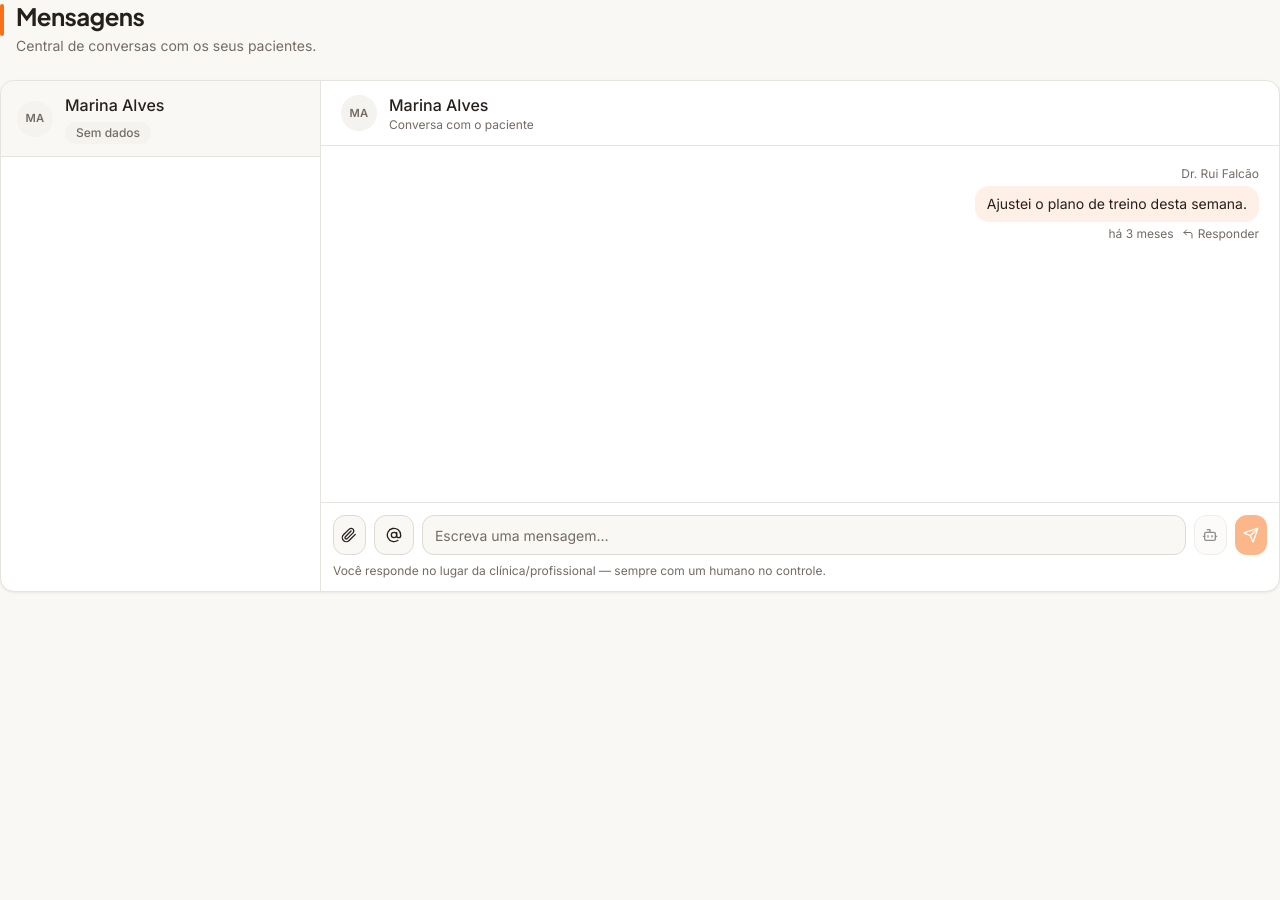
Test: MessagesPage — cada lista responde pelo seu próprio estado › falha no roster vira erro VISÍVEL dentro do seletor, com nova tentativa
Click the button named "Marcar um profissional".
click(394, 535)  # box [374,515,414,555]
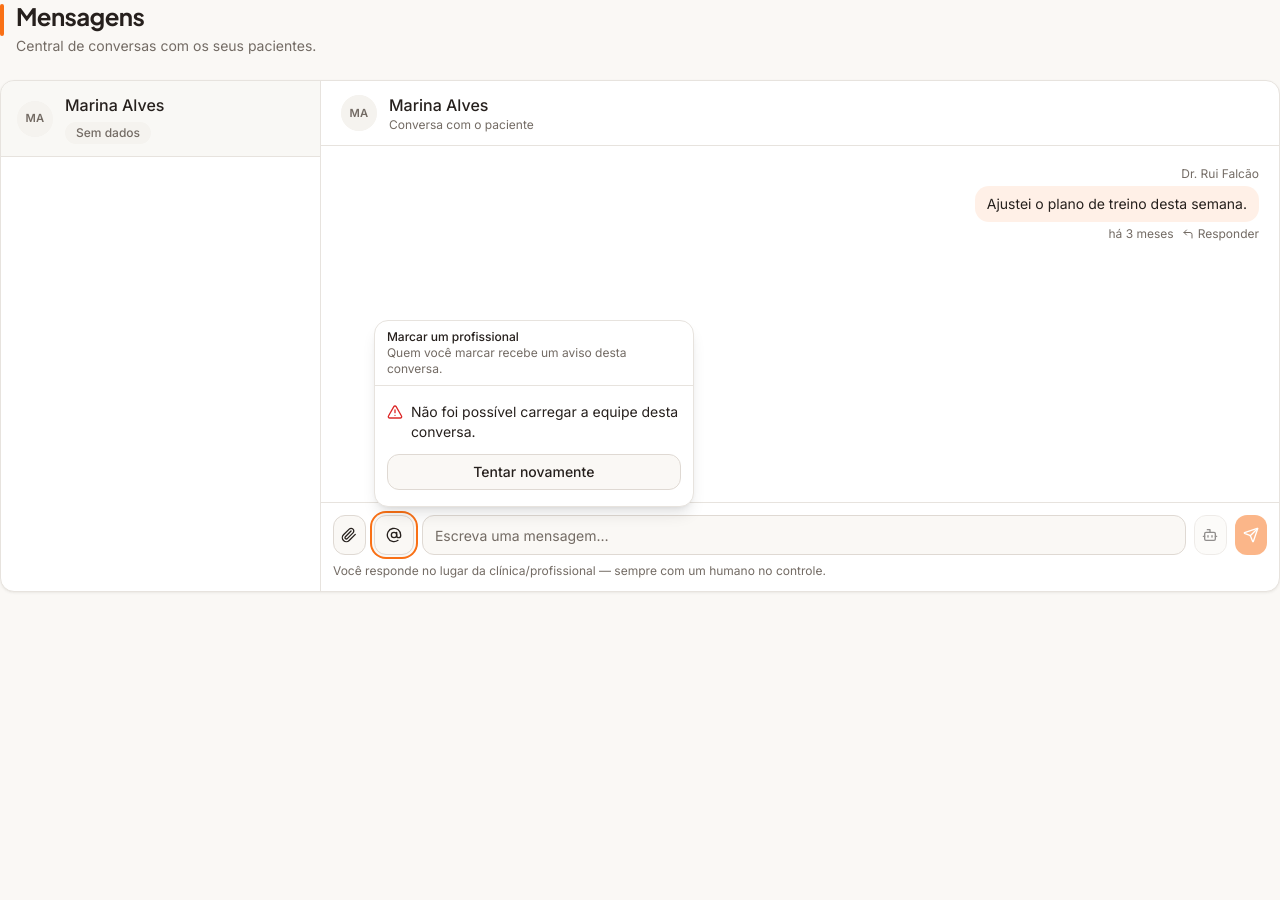
Check: the text "Não foi possível carregar a equipe desta conversa." is shown, box [411,402,681,442]
Check: the button "Tentar novamente" is shown, box [387,454,681,490]
